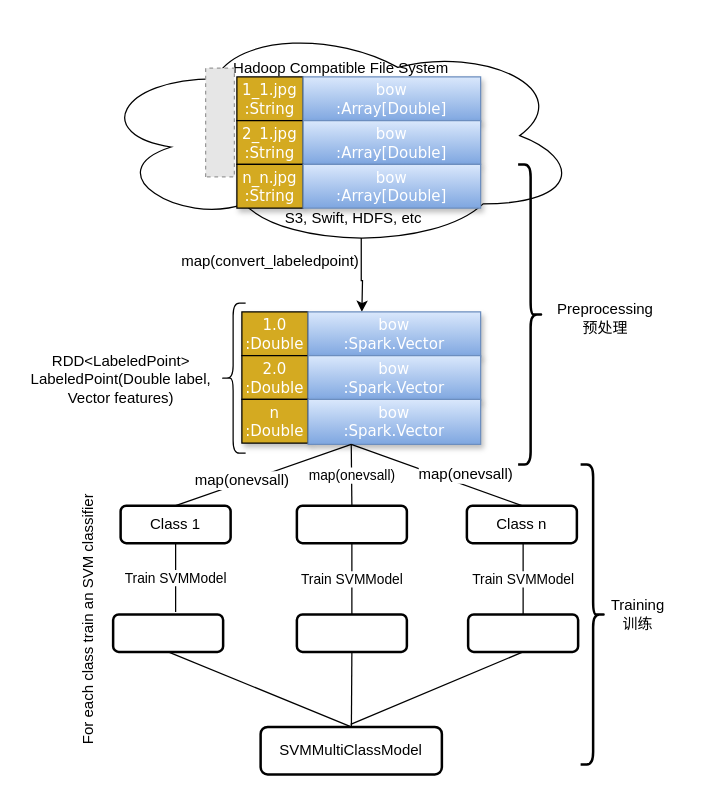
Some shapes in this 709 by 804 pixel diagram are drawn without their labels. Grey dashed boxes stand in for pictures. The centre of each missing label's shape, as x and y in pixels:
"Class 2" belongs at point (351, 524).
"SVMModel1" belongs at point (167, 632).
"SVMModel2" belongs at point (351, 632).
"SVMModeln" belongs at point (522, 632).
